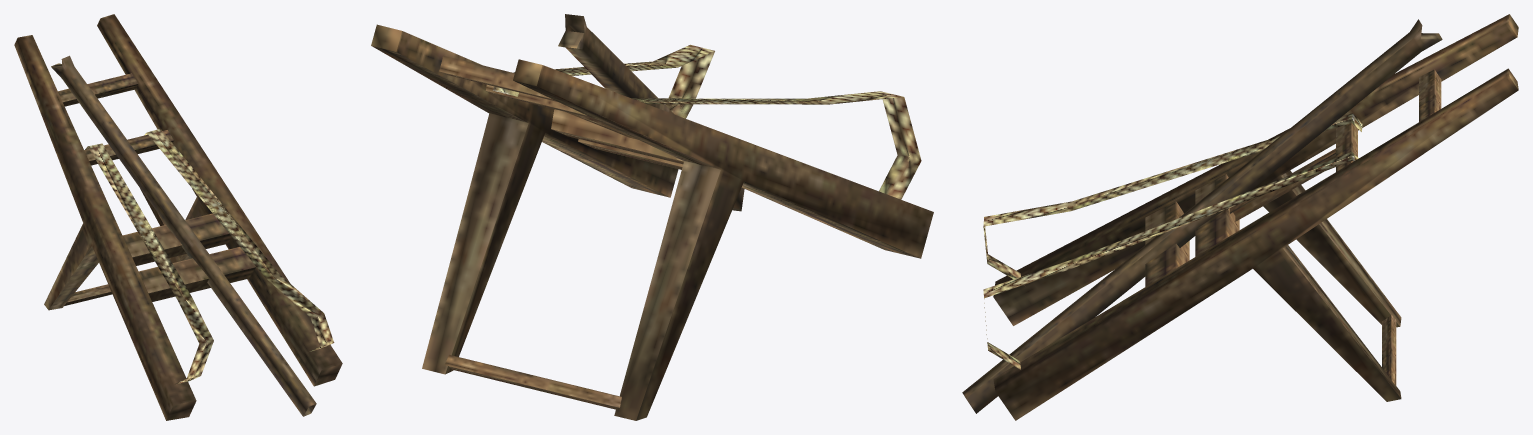
The model's file is b_general_obj_10_1.fbx.
3 views of the same model, side by side, from view 1: azimuth 30°, elevation 25°; view 2: azimuth 150°, elevation 25°; view 3: azimuth 270°, elevation 25° (orthographic). The views are drawn at different scales.
Visible parts, largest first — view 1: Sphere01; view 2: Sphere01; view 3: Sphere01.
Part boxes in pixels (bbox=[...]): Sphere01: bbox=[14, 14, 342, 420]; Sphere01: bbox=[371, 14, 933, 420]; Sphere01: bbox=[962, 14, 1518, 420].
Bounding box in the file's own units: 0.7827 × 1.12 × 1.67.
